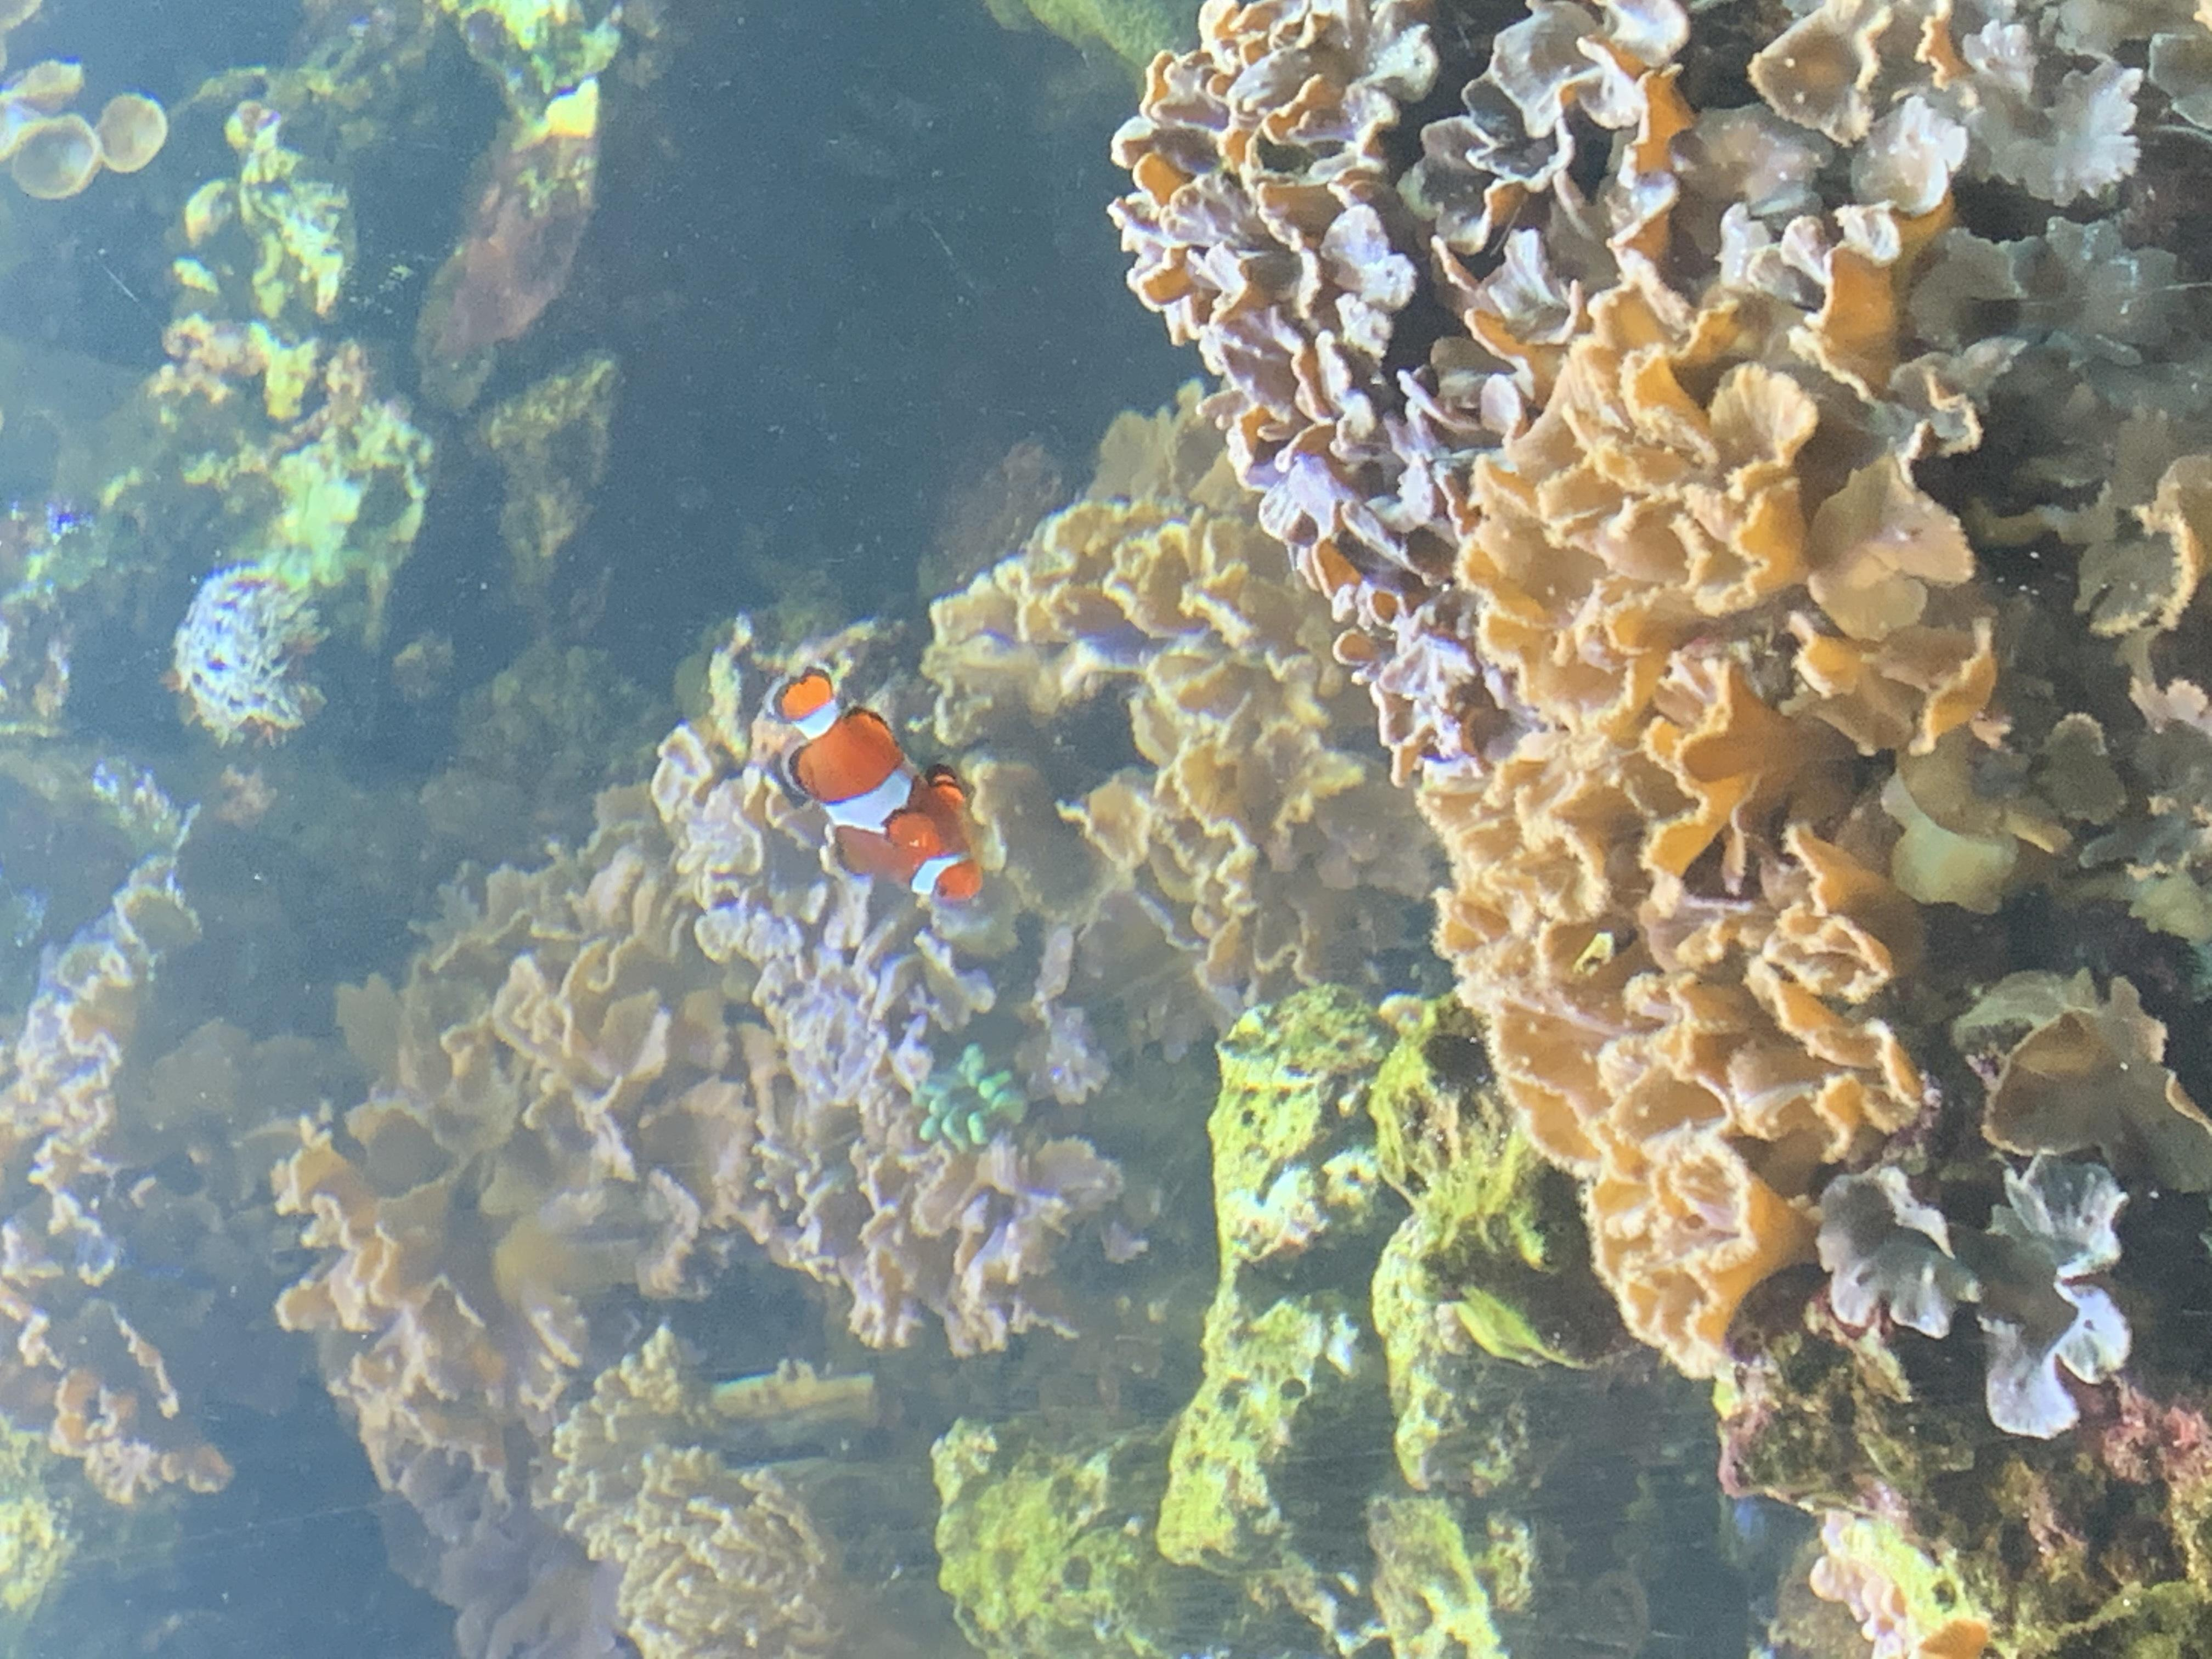fish: (763, 660, 988, 910)
